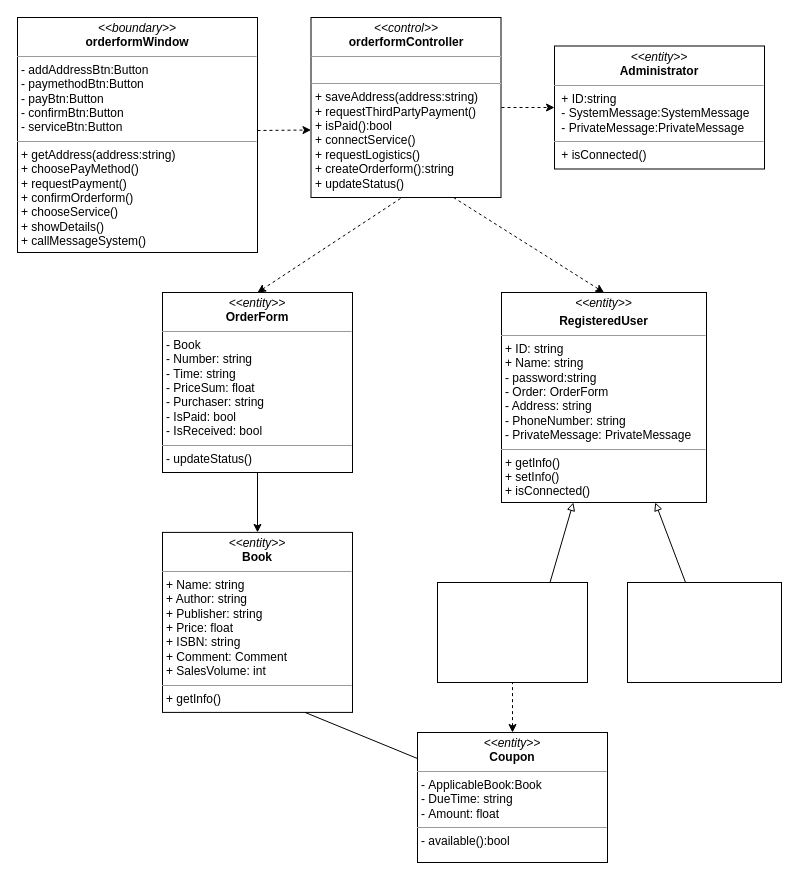
Image size: 799x880. Some labels were removed from this diagram. The shapes that lost their labels are listed below. From the top down, each one's box as (x1, y1, x2, y2) in pixels, then its label:
(436, 582, 588, 682): <<entity>> SeniorUser - Coupon:Coupon
(626, 582, 782, 682): <<entity>> OrdinaryUser
